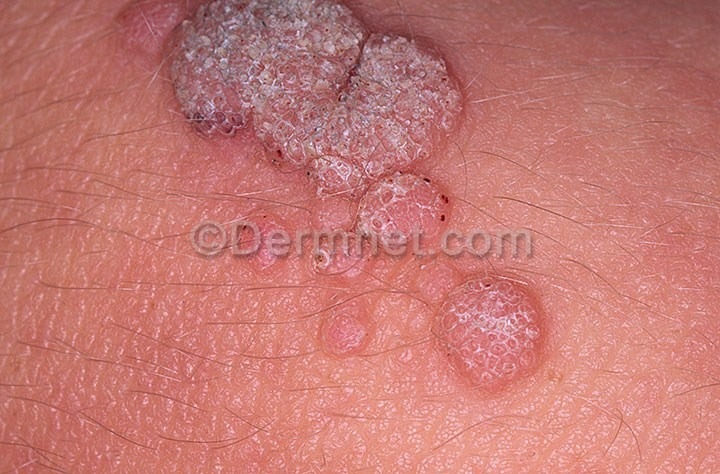Warts: (156, 0, 481, 216), (420, 266, 559, 395)
